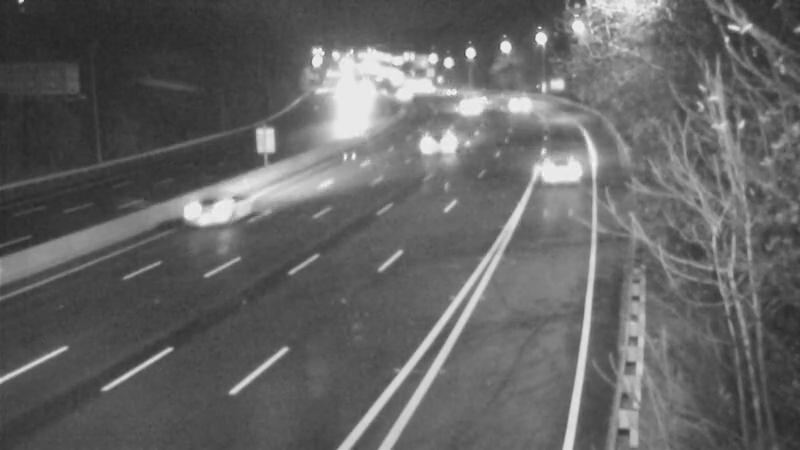vehicle: (517, 124, 597, 204), (172, 169, 252, 249), (379, 70, 429, 120), (429, 65, 479, 115), (456, 71, 506, 121), (440, 82, 490, 132), (489, 78, 539, 128), (412, 116, 462, 166), (323, 100, 373, 150)
